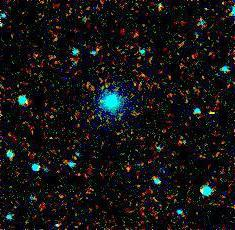star: (195, 92, 225, 122)
